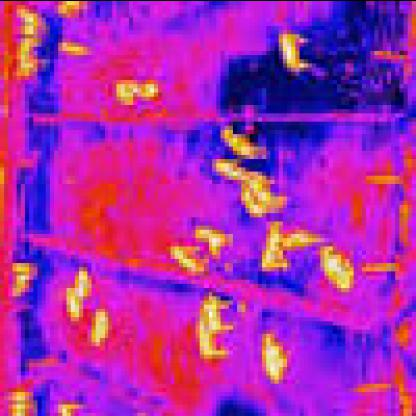Defects: (258, 328, 292, 382), (199, 296, 228, 353), (320, 249, 350, 292), (166, 237, 196, 279), (116, 83, 158, 104), (278, 33, 303, 67), (199, 228, 233, 249), (92, 308, 112, 341), (63, 287, 78, 316), (80, 266, 96, 291)
